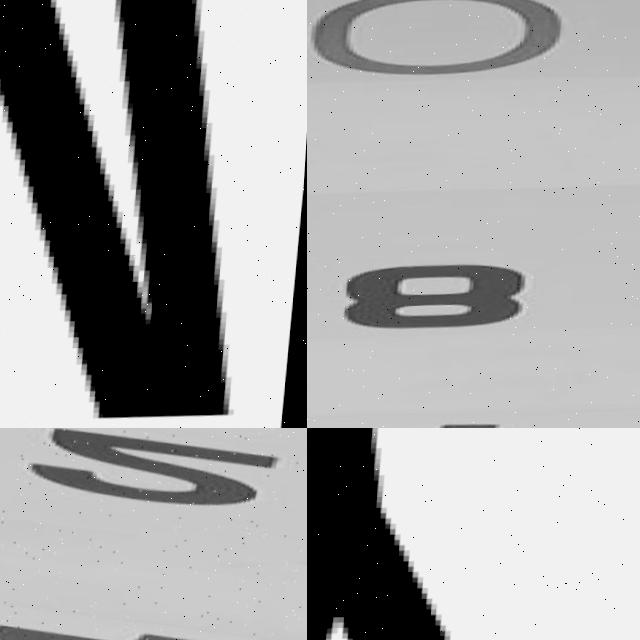0: (307, 0, 590, 95)
2: (12, 428, 305, 543)
4: (0, 593, 296, 640)
8: (314, 257, 567, 348)
M: (0, 0, 284, 428)
Y: (307, 428, 600, 640)
